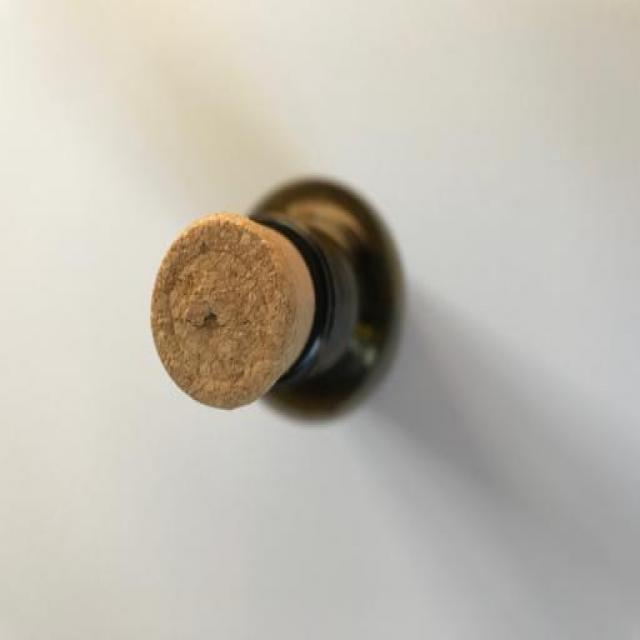Waste: (151, 178, 405, 419)
